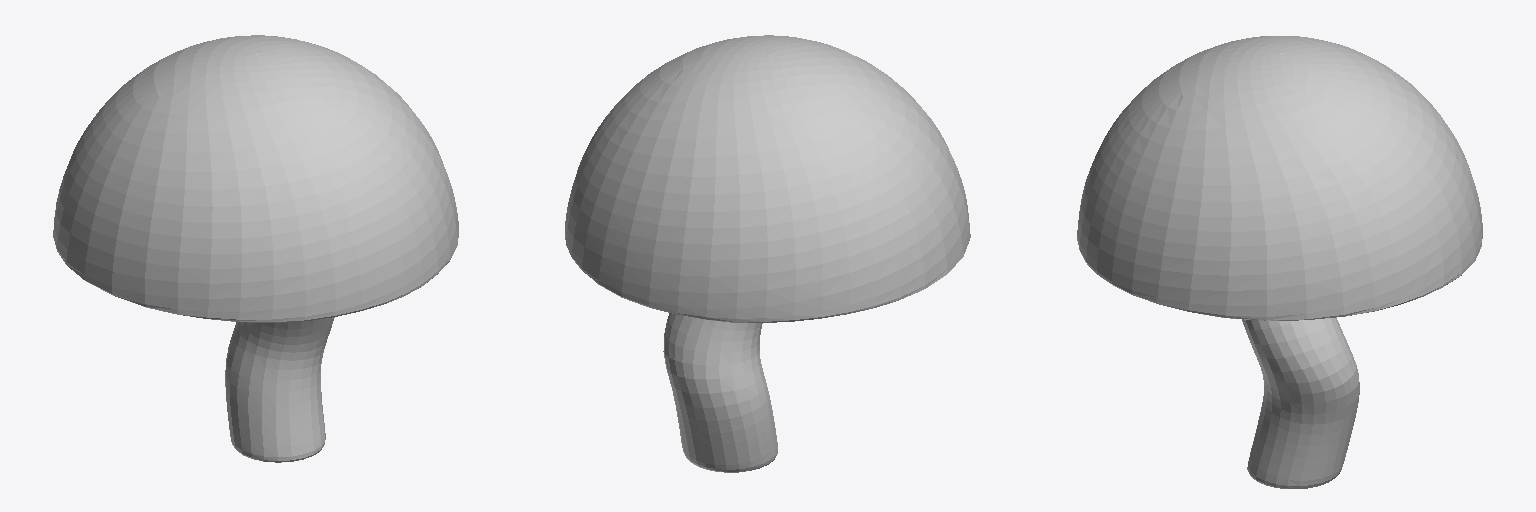
The model's file is Mushroom_1.obj.
The picture shows the model from 3 angles: view 1: azimuth 30°, elevation 25°; view 2: azimuth 150°, elevation 25°; view 3: azimuth 270°, elevation 25°; orthographic projection.
Visible parts, largest first — view 1: pSphere1, pCylinder1; view 2: pSphere1, pCylinder1; view 3: pSphere1, pCylinder1.
Boxes of the visible parts, x1,y1,x2,y2 form: pSphere1: [53, 35, 458, 322]; pCylinder1: [225, 317, 334, 462]; pSphere1: [565, 35, 970, 322]; pCylinder1: [663, 313, 777, 472]; pSphere1: [1077, 36, 1482, 320]; pCylinder1: [1242, 317, 1359, 488].
Bounding box in the file's own units: 68.87 × 75.78 × 68.85.